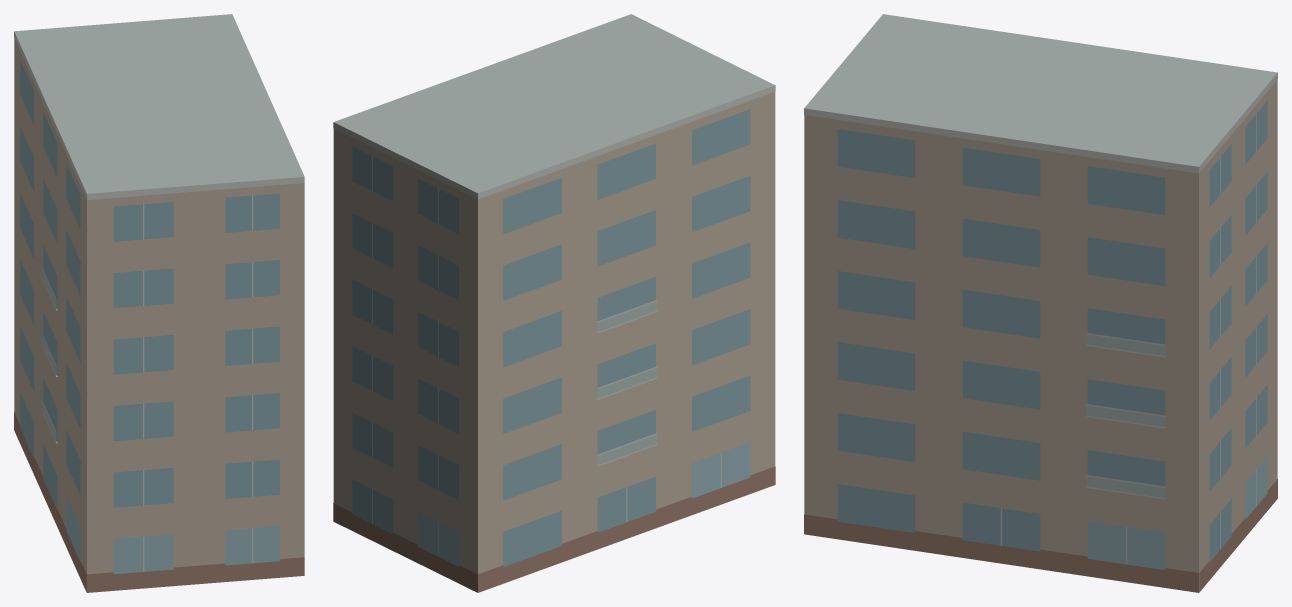
The model's file is survey-upis-32881781.glb.
The picture shows the model from 3 angles, left to right: view 1: azimuth 30°, elevation 25°; view 2: azimuth 150°, elevation 25°; view 3: azimuth 270°, elevation 25°; orthographic projection. The views are drawn at different scales.
Visible parts, largest first — view 1: survey-upis-32881781.tmp; view 2: survey-upis-32881781.tmp; view 3: survey-upis-32881781.tmp.
Boxes of the visible parts, x1,y1,x2,y2 form: survey-upis-32881781.tmp: [14, 14, 304, 592]; survey-upis-32881781.tmp: [333, 14, 775, 592]; survey-upis-32881781.tmp: [804, 14, 1277, 592].
Bounding box in the file's own units: 12.17 × 15.8 × 15.93.
